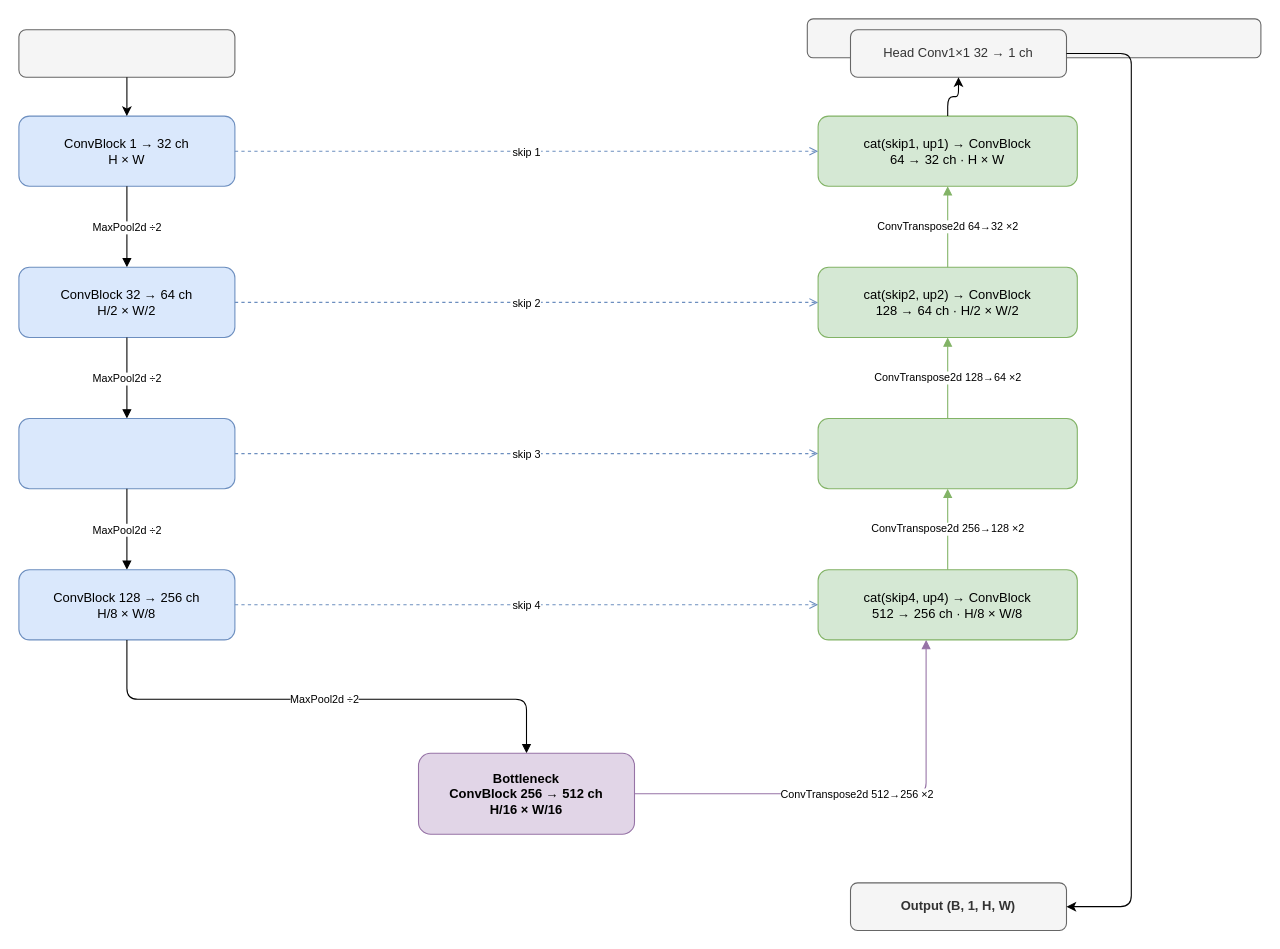
Image size: 1280x949. Some labels were removed from this diagram. The shapes that lost their labels are listed below. From the top down, each one's box as (x1, y1, x2, y2) in pixels, then its label:
(18, 29, 235, 77): Input (B, 1, H, W)
(806, 18, 1261, 58): ConvBlock = Conv3×3(pad=1) → BN → LeakyReLU(0.1) ×2
(18, 417, 235, 489): ConvBlock 64 → 128 ch H/4 × W/4
(817, 417, 1077, 489): cat(skip3, up3) → ConvBlock 256 → 128 ch · H/4 × W/4
